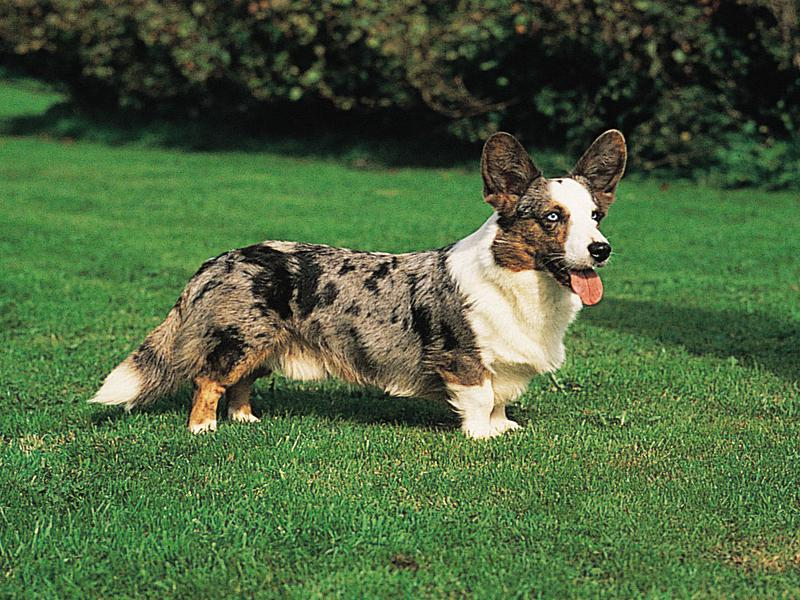corgi: (479, 128, 632, 308)
